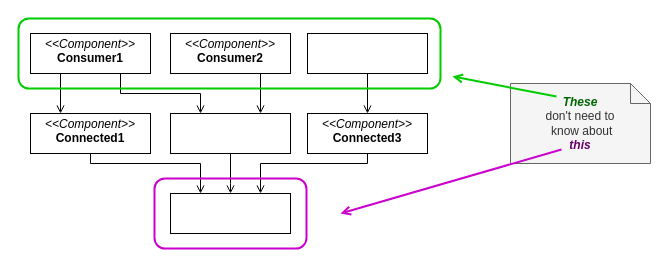
This 668x266 diagram has some shape labels left out. Here are the shapes that lost their labels. From the top down, the box of each, then its label:
(306, 32, 428, 74): <<Component>> Consumer 3
(170, 112, 290, 154): <<Component>> Connected2
(170, 192, 290, 234): <<Component>> Generic
